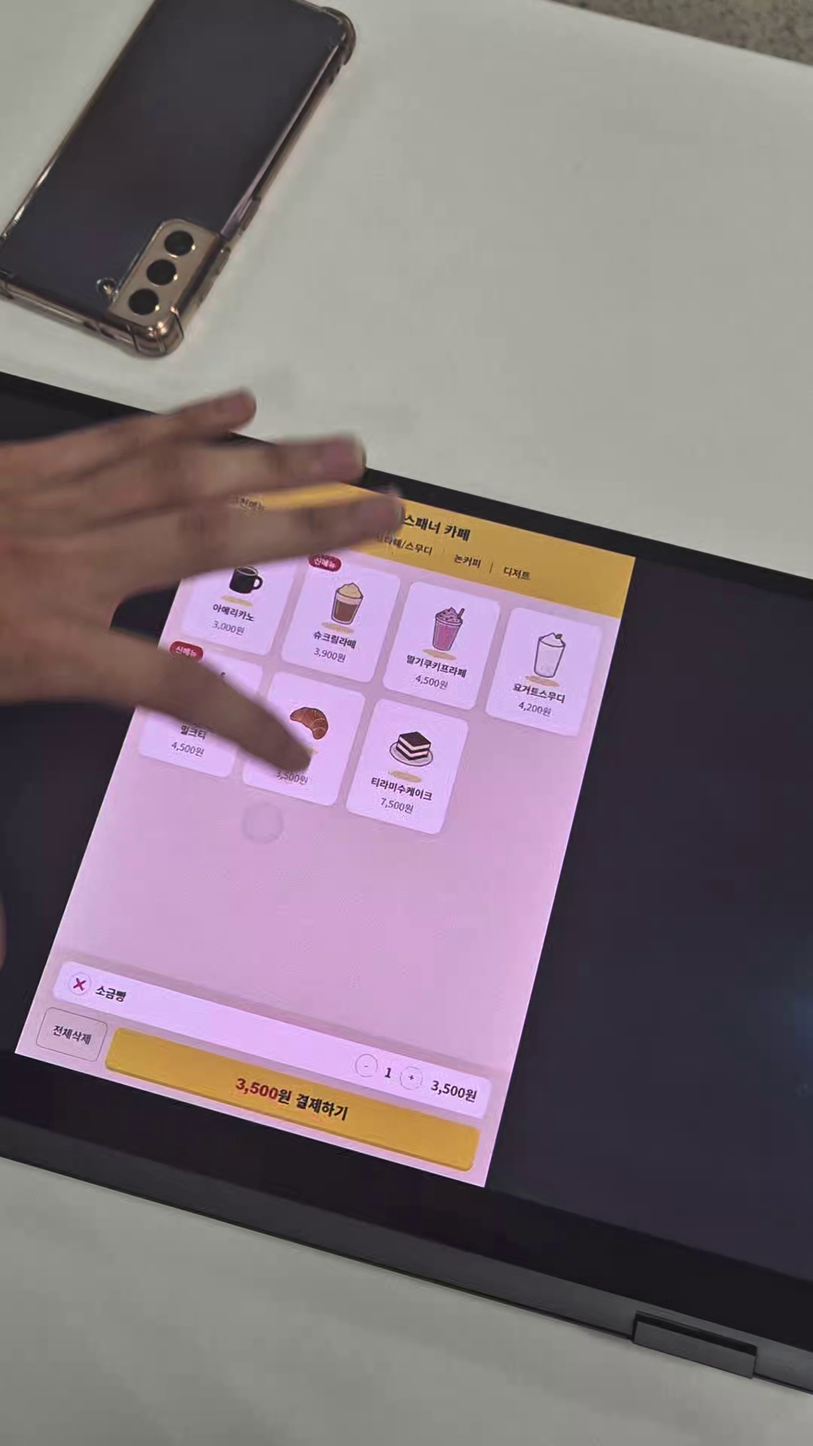action_button: (104, 1026, 480, 1172), (29, 1008, 109, 1068)
cart_item: (47, 958, 496, 1127)
category_tab: (360, 523, 437, 565), (445, 547, 489, 576), (227, 491, 275, 517), (496, 559, 537, 588)
menu_back: (242, 666, 367, 806), (347, 698, 469, 837), (379, 578, 503, 711), (481, 605, 604, 739), (276, 553, 400, 681), (139, 647, 263, 773), (182, 534, 298, 657)
menu_name: (364, 768, 438, 805), (400, 647, 473, 680), (509, 677, 570, 707), (206, 596, 261, 628), (304, 624, 360, 654), (174, 719, 214, 741)
menu_price: (370, 794, 422, 823), (270, 762, 316, 791), (202, 615, 254, 640), (165, 733, 209, 760), (403, 671, 452, 694), (304, 645, 352, 667), (508, 699, 555, 720)
